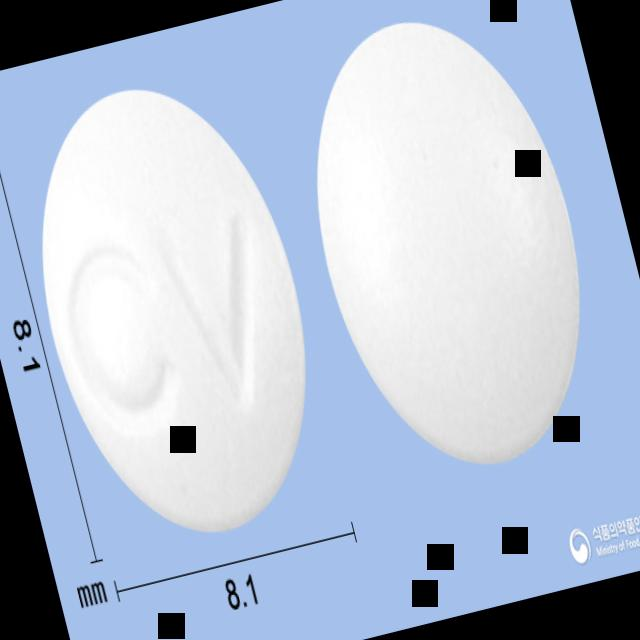Ciprox: (0, 58, 349, 561), (274, 0, 625, 494)
